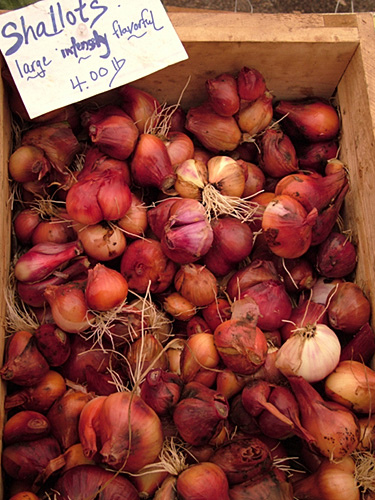onion: (276, 322, 341, 381), (156, 195, 216, 256), (263, 196, 318, 258), (325, 357, 373, 413), (317, 460, 363, 498)
